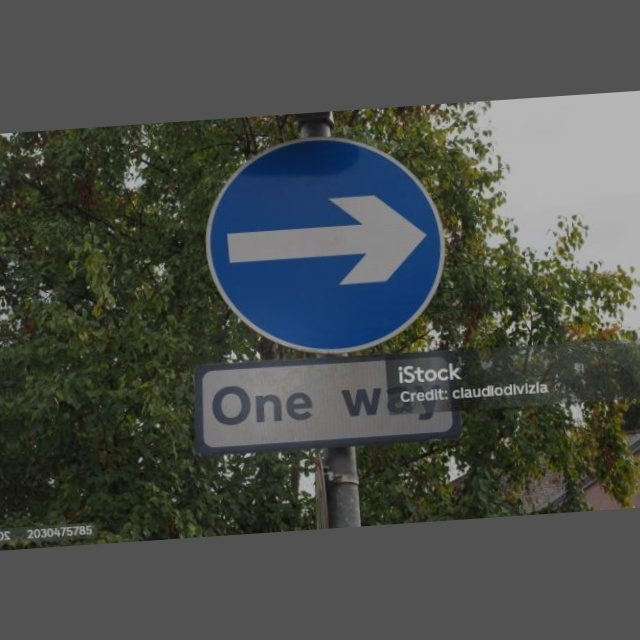Compulsory_Turn_Right: (199, 127, 455, 362)
